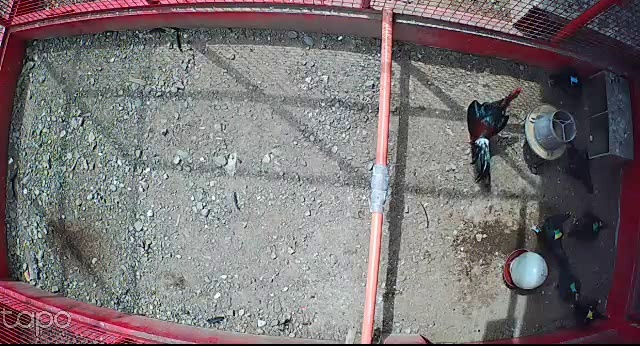Chicken: (528, 208, 575, 273), (556, 141, 600, 197), (543, 65, 594, 101), (570, 292, 616, 330), (551, 256, 583, 306), (563, 214, 611, 246)
Drinker: (502, 249, 548, 291)
Feeder: (526, 103, 578, 162)
Rooster: (465, 86, 524, 187)
Saddle_Color_Blue: (571, 75, 578, 83)
Saddle_Color_Yellow: (587, 311, 593, 318)
Saddle_Color_YellowGreen: (554, 228, 561, 241)
